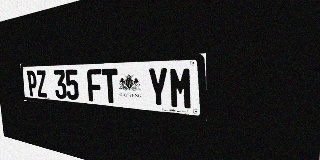3: (53, 70, 67, 99)
5: (65, 69, 79, 100)
F: (87, 69, 103, 102)
M: (169, 67, 193, 110)
P: (26, 70, 38, 97)
T: (101, 68, 119, 104)
Y: (147, 67, 169, 108)
Z: (36, 70, 48, 98)
